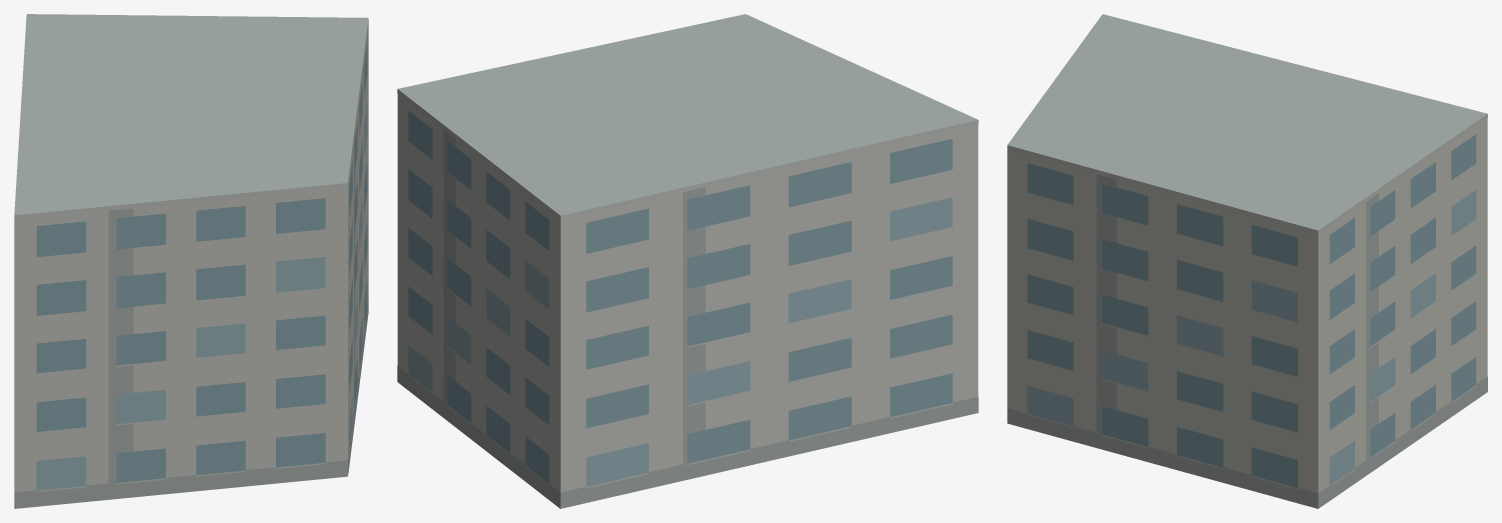
The model's file is residential-f62b04ff-c2f0-4f2a-ae04-bc81c5d77afd.glb.
3 views of the same model, side by side, from view 1: azimuth 30°, elevation 25°; view 2: azimuth 150°, elevation 25°; view 3: azimuth 270°, elevation 25° (orthographic). The views are drawn at different scales.
Parts seen in each view (by area): view 1: residential-f62b04ff-c2f0-4f2a-ae04-bc81c5d77afd.tmp; view 2: residential-f62b04ff-c2f0-4f2a-ae04-bc81c5d77afd.tmp; view 3: residential-f62b04ff-c2f0-4f2a-ae04-bc81c5d77afd.tmp.
Boxes of the visible parts, x1,y1,x2,y2 form: residential-f62b04ff-c2f0-4f2a-ae04-bc81c5d77afd.tmp: [14, 14, 368, 508]; residential-f62b04ff-c2f0-4f2a-ae04-bc81c5d77afd.tmp: [397, 14, 978, 508]; residential-f62b04ff-c2f0-4f2a-ae04-bc81c5d77afd.tmp: [1007, 14, 1487, 508].
Size of the model in its own units: 25.45 by 15.25 by 23.87.
